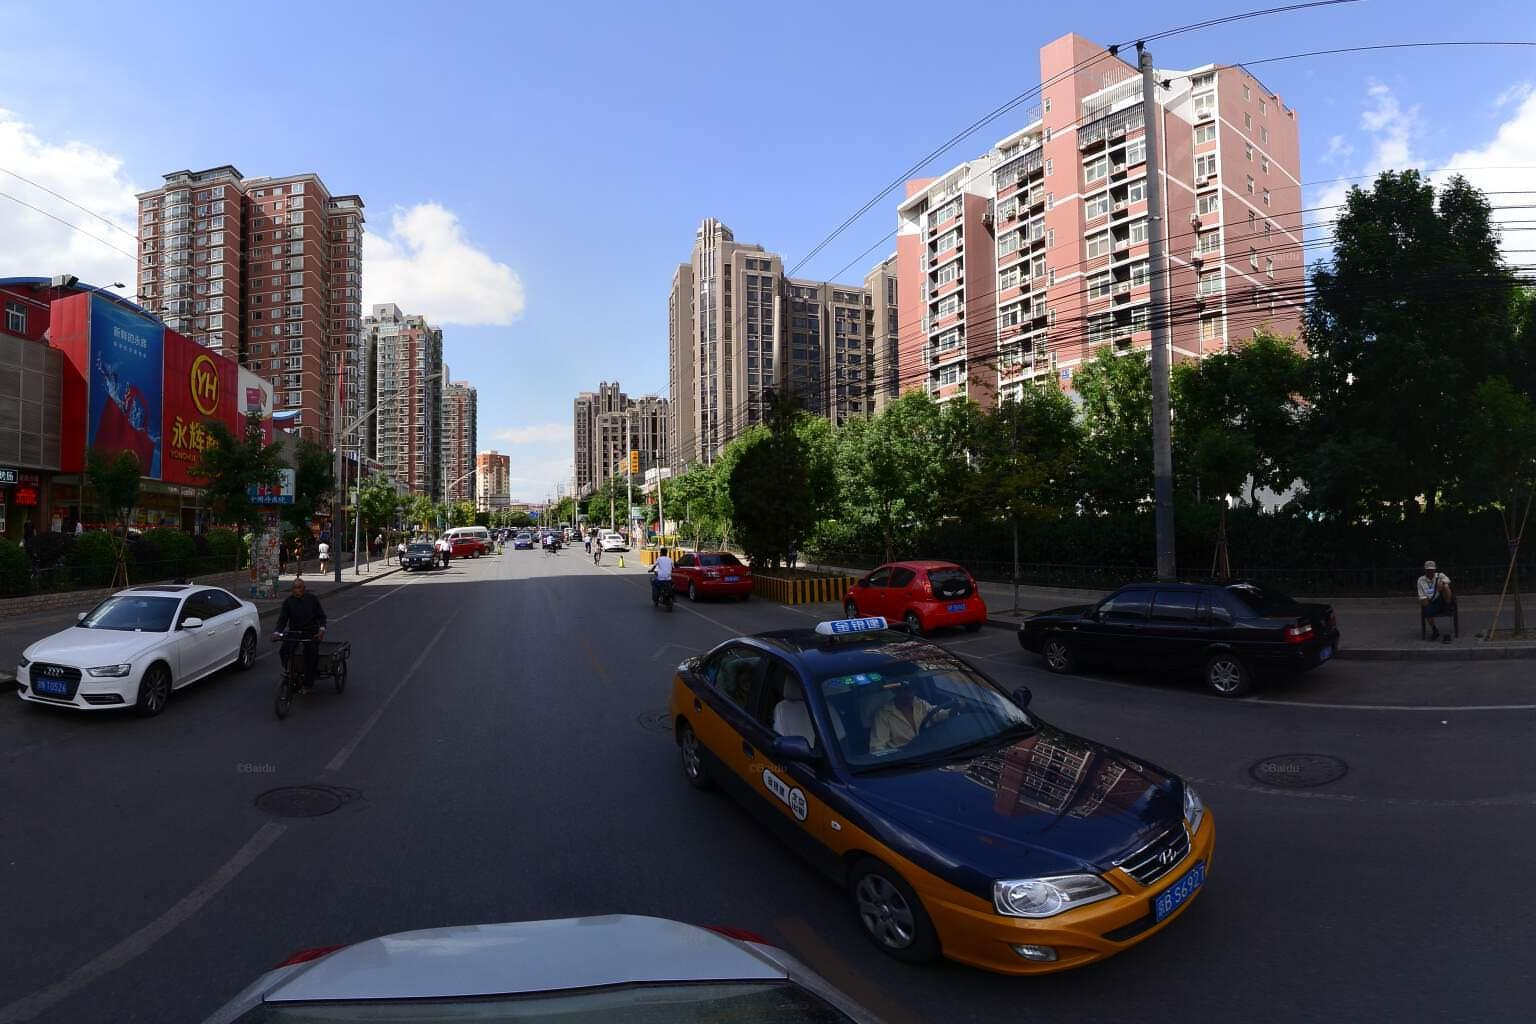car: (686, 597, 1274, 957), (986, 575, 1354, 695), (14, 577, 271, 728), (825, 563, 987, 633)
